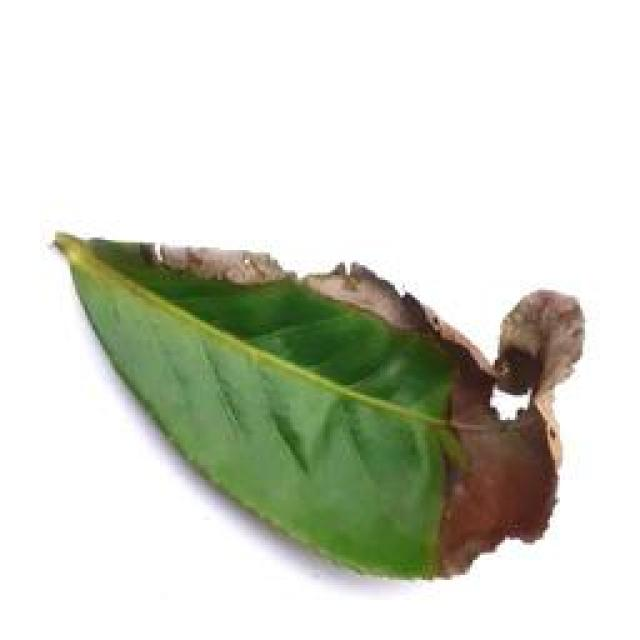Brown Blight: (38, 212, 580, 583)
